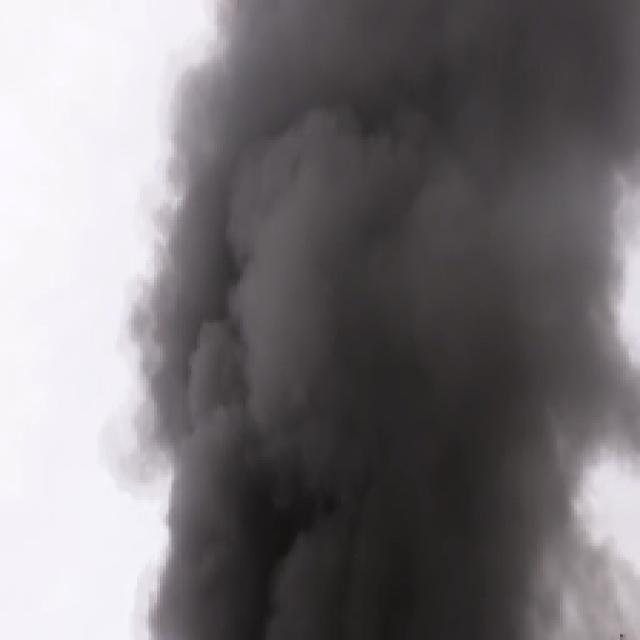Smoke: (199, 2, 592, 640)
